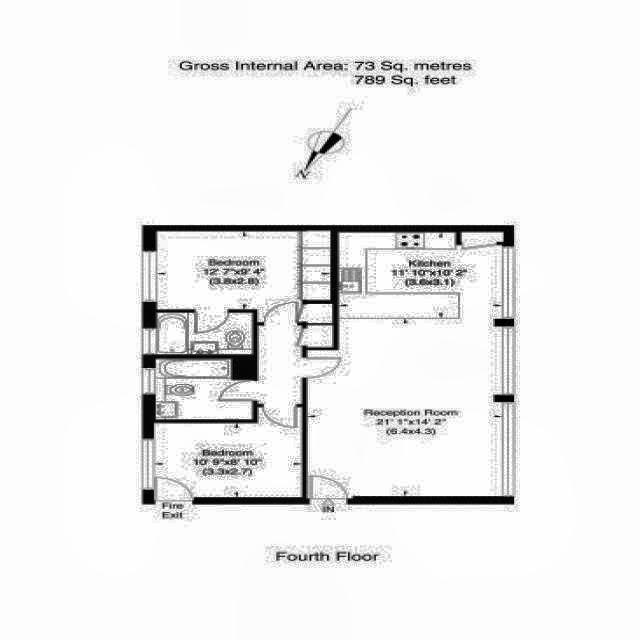room: (307, 231, 503, 497), (157, 232, 332, 310), (154, 423, 302, 497), (155, 359, 253, 418), (258, 310, 300, 408), (157, 312, 253, 353)
